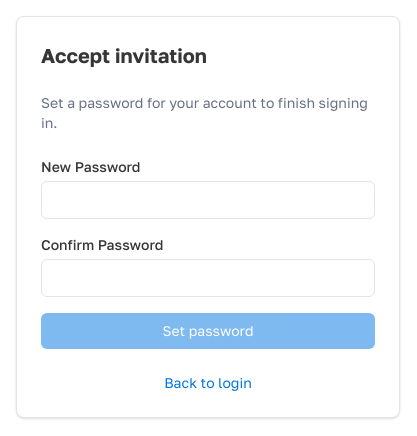
Test: AcceptInvitation.vue › criterion2: passwordWeak computed reactively disables submit for a blocklisted password
Type "password" into the password field below "New Password".
click(208, 200); type("password")  # box [41, 181, 375, 219]
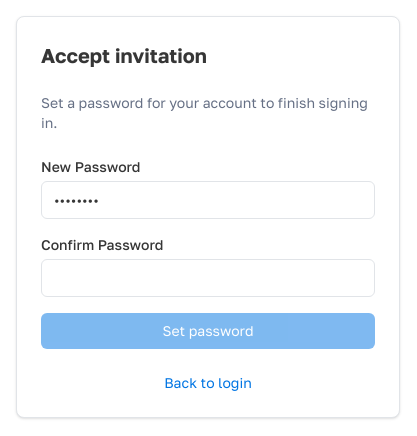
Expected: the submit button is disabled, [41, 313, 375, 349]
Type "a-genuinely-strong-Passphrase-42" into the password field below "New Password".
click(208, 200); type("a-genuinely-strong-Passphrase-42")  # box [41, 181, 375, 219]
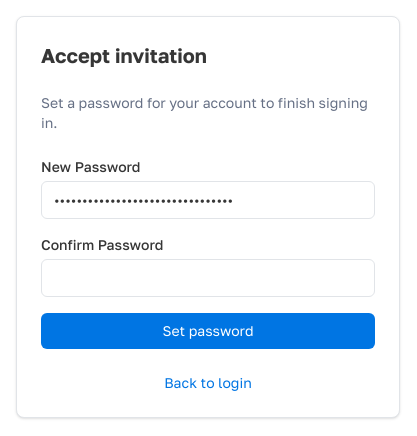
Result: the submit button is enabled at [41, 313, 375, 349]
